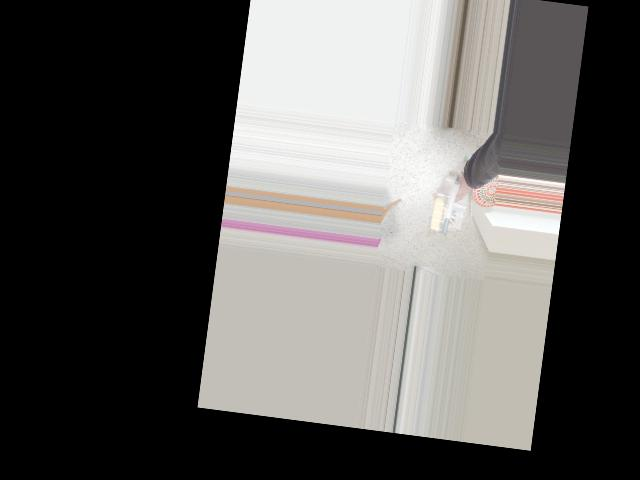cheese: (411, 179, 493, 240)
